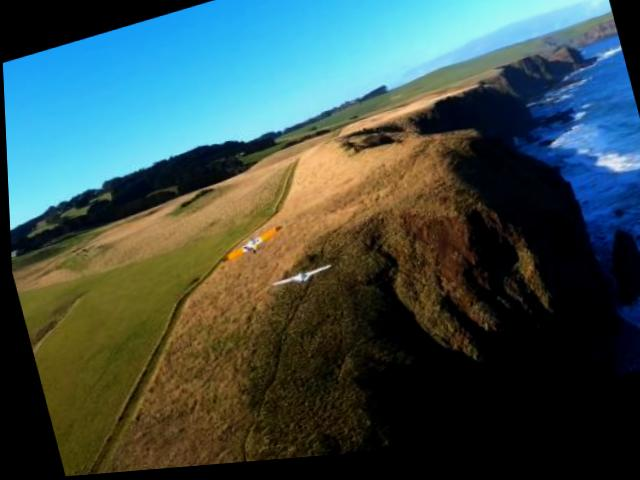uav: (211, 227, 288, 268), (265, 265, 334, 299)
